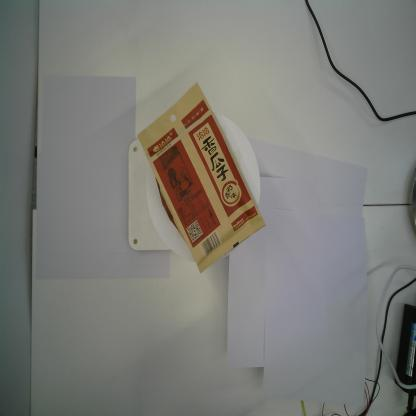Dried Food: (137, 80, 266, 274)
